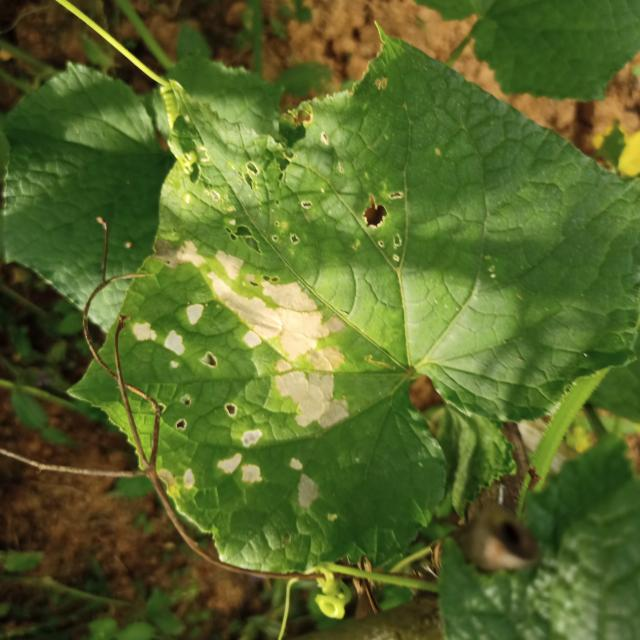disease_cucumber: (128, 238, 354, 517)
